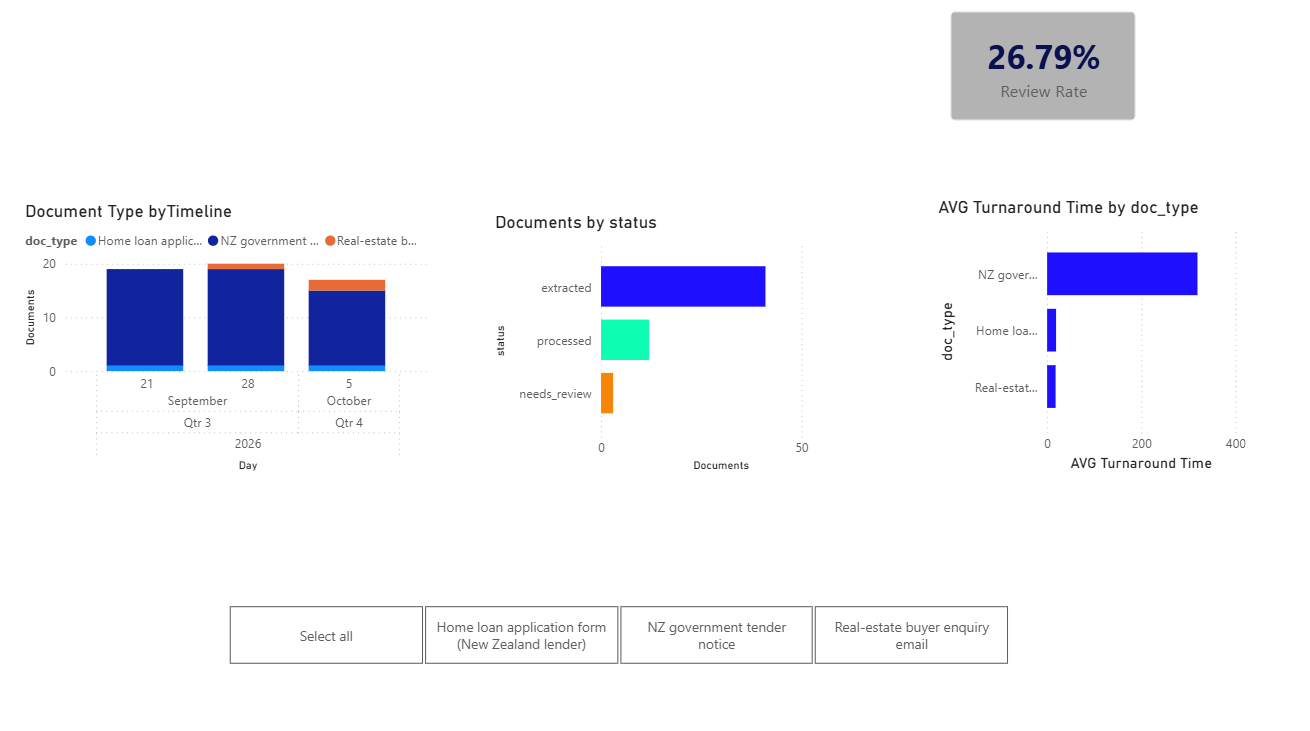

What the dashboard file says about the page in this screenshot:
{"tool":"powerbi","page":{"name":"Page 1","canvas":[1280,720],"ordinal":0},"visuals":[{"type":"columnChart","title":"Document Type byTimeline","fields":{"Y":["Measure.Documents"],"Series":["Processed Data Information Table.doc_type"],"Category":["Processed Data Information Table.Start of Week.Variation.Date Hierarchy.Year","Processed Data Information Table.Start of Week.Variation.Date Hierarchy.Quarter","Processed Data Information Table.Start of Week.Variation.Date Hierarchy.Month","Processed Data Information Table.Start of Week.Variation.Date Hierarchy.Day"]},"box":[20.4,201.3,403.6,267.5],"z":0},{"type":"clusteredBarChart","fields":{"Category":["Processed Data Information Table.status"],"Y":["Measure.Documents"]},"box":[477.6,212,354,256.8],"z":1},{"type":"clusteredBarChart","fields":{"Category":["Processed Data Information Table.doc_type"],"Y":["Measure.AVG Turnaround Time"]},"box":[908.4,197.4,309.3,271.4],"z":2},{"type":"cardVisual","fields":{"Data":["Measure.Review Rate"]},"box":[908.4,0,215,140.1],"z":3},{"type":"slicer","fields":{"Values":["Processed Data Information Table.doc_type"]},"box":[198.4,588.4,807.3,70],"z":4}]}

Visuals, with their boxes in screenshot pixels (x1, y1, x2, y2), scaled from the page's 1280x720 canvas onto the 1310x731 screenshot:
"Document Type byTimeline" columnChart: pyautogui.locateOnScreen(21, 204, 434, 476)
clusteredBarChart - Processed Data Information Table.status x Measure.Documents: pyautogui.locateOnScreen(489, 215, 851, 476)
clusteredBarChart - Processed Data Information Table.doc_type x Measure.AVG Turnaround Time: pyautogui.locateOnScreen(930, 200, 1246, 476)
cardVisual - Measure.Review Rate: pyautogui.locateOnScreen(930, 0, 1150, 142)
slicer - Processed Data Information Table.doc_type: pyautogui.locateOnScreen(203, 597, 1029, 668)
